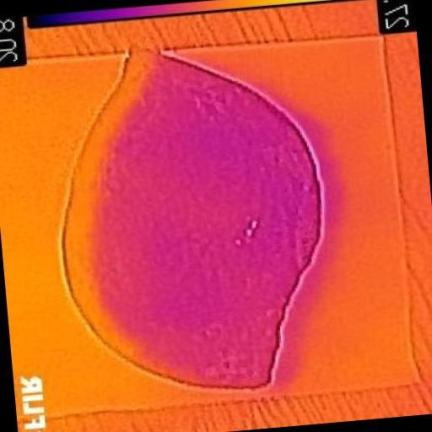mango: (60, 44, 320, 389)
